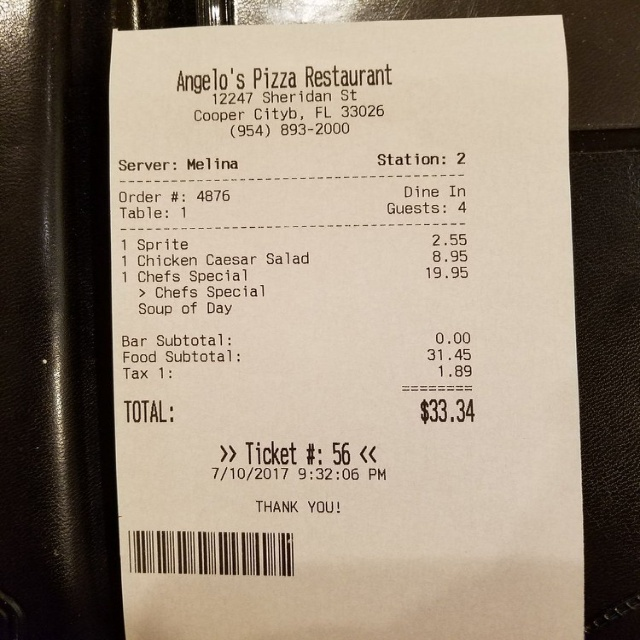invoice_table: (117, 233, 471, 316)
invoice_title: (173, 62, 394, 138)
invoice_total: (120, 398, 475, 425)
